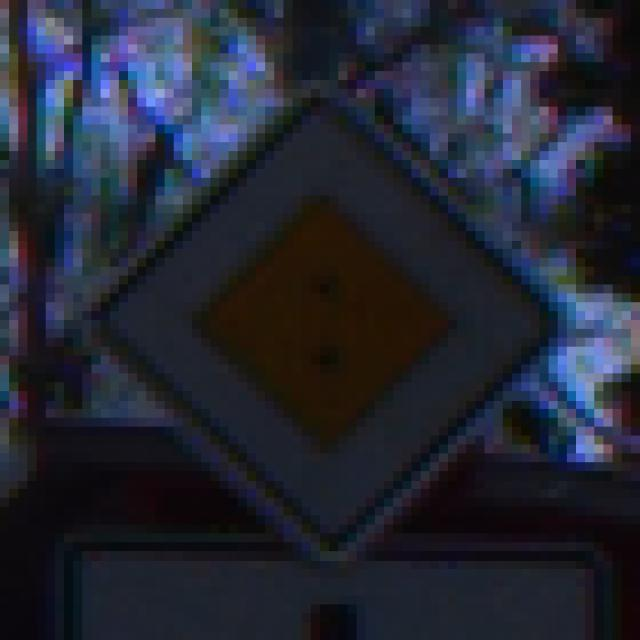Main Road: (65, 54, 586, 588)
